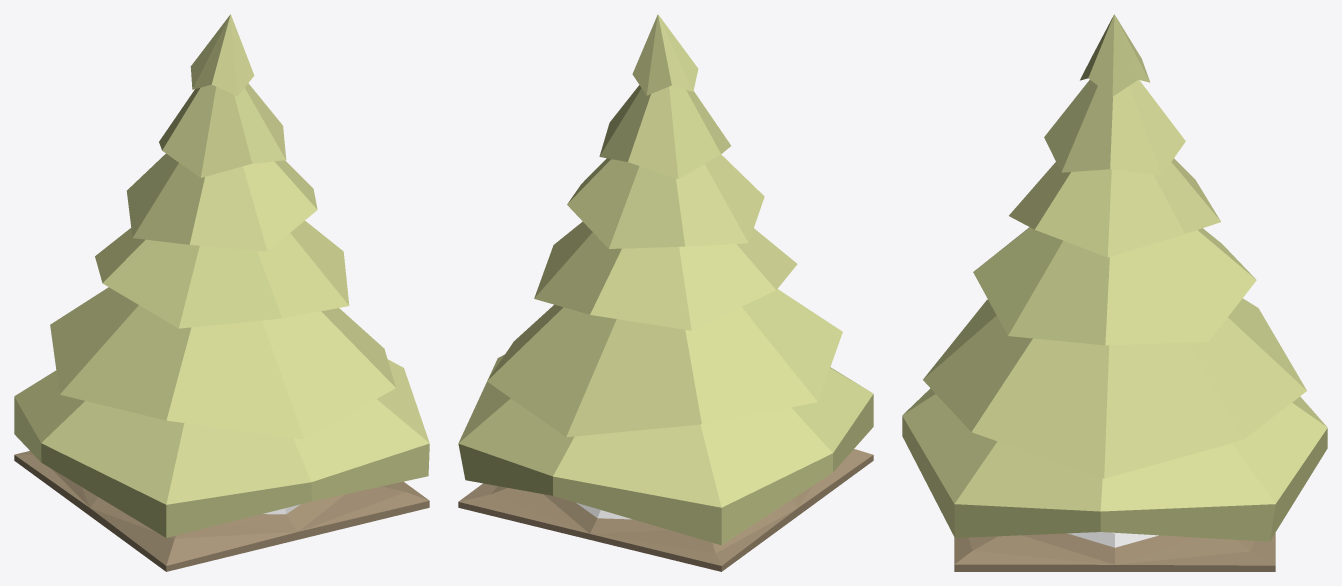
The model's file is cellStaticSA.gltf.
The picture shows the model from 3 angles, left to right: view 1: azimuth 30°, elevation 25°; view 2: azimuth 150°, elevation 25°; view 3: azimuth 270°, elevation 25°; orthographic projection. The views are drawn at different scales.
Visible parts, largest first — view 1: lot.001, Plane.006; view 2: lot.001, Plane.006; view 3: lot.001, Plane.006.
Part boxes in pixels (x1,y1,x2,y2): lot.001: [14, 14, 429, 537]; Plane.006: [14, 451, 429, 571]; lot.001: [458, 14, 873, 545]; Plane.006: [458, 449, 873, 571]; lot.001: [902, 14, 1327, 541]; Plane.006: [954, 532, 1275, 571].
Size of what is drawn, in the model's own units: 6.63 by 8.49 by 6.63.
